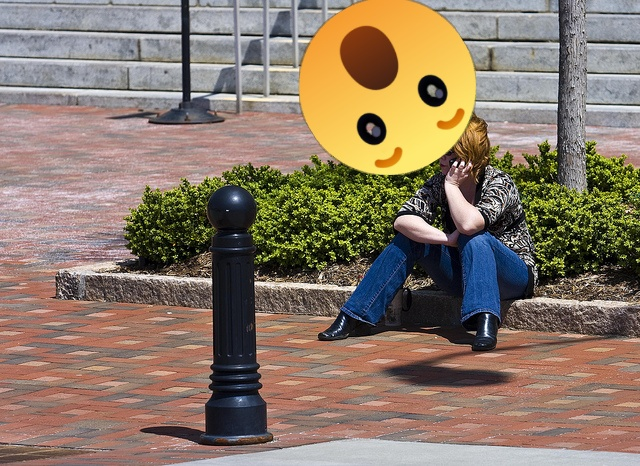wow: (299, 0, 476, 175)
